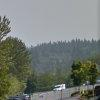Tree: (3, 12, 42, 99)
